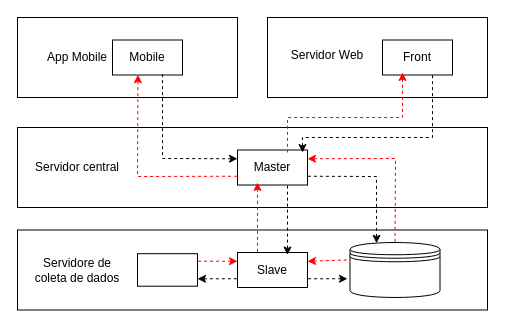
Some shapes in this 505 by 328 pixel diagram are drawn without their labels. The shapes that lost their labels are listed below. From the top down, each one's centre as x and y in pixels, then its label:
At (167,269): "Medidores".
At (394,270): "Banco de dados (PostgreSQL)".
